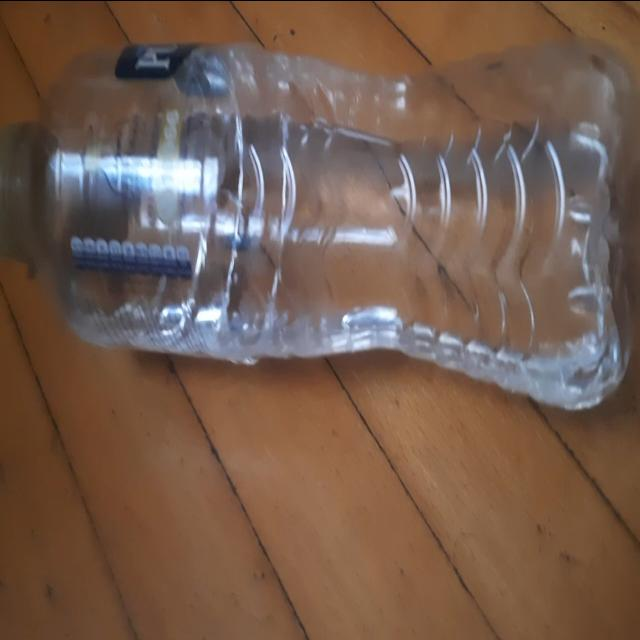Plastic: (0, 36, 640, 412)
